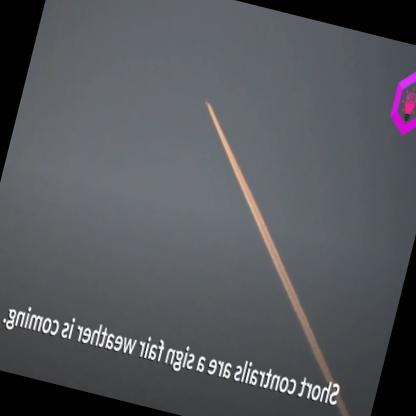plane: (202, 94, 213, 108)
